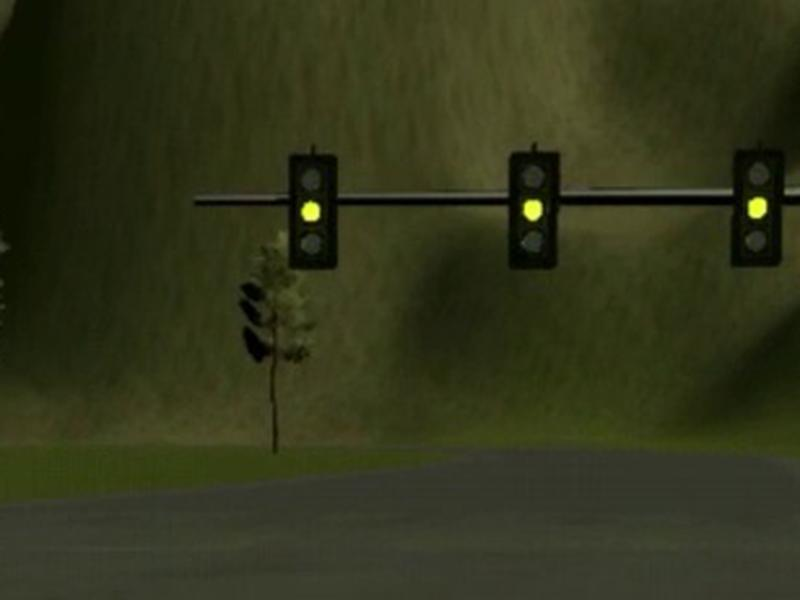Yellow: (730, 148, 786, 267), (509, 151, 559, 269), (289, 153, 337, 269)
